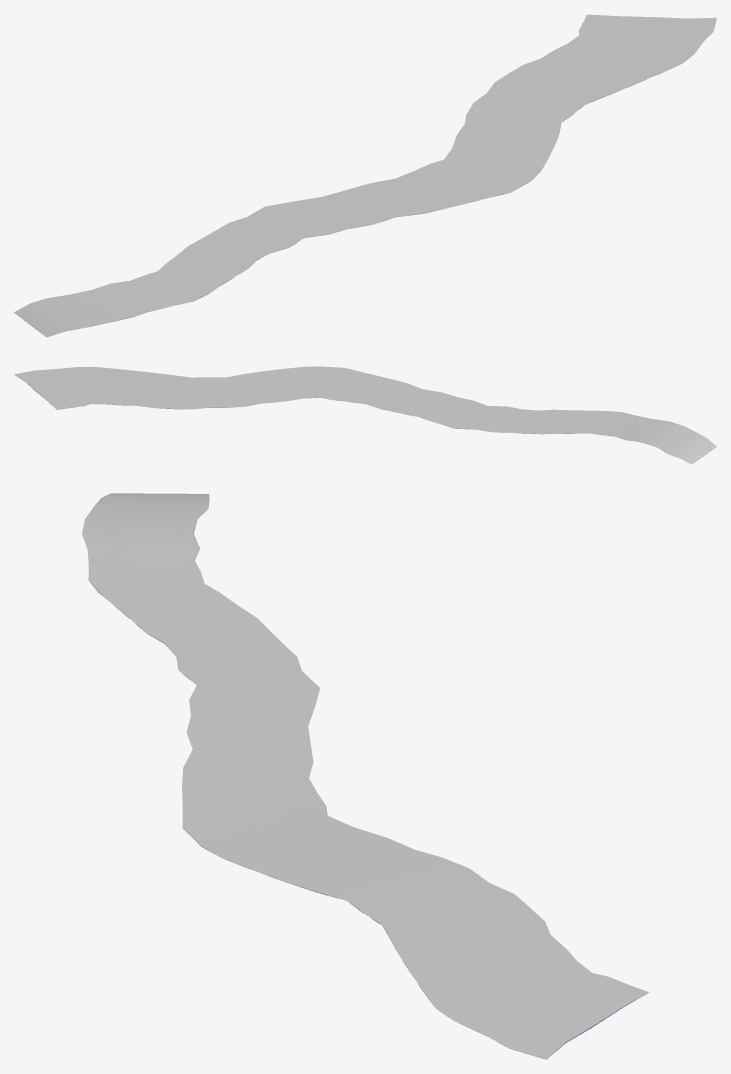
The model's file is EKH_THRONE_PS_TH_WATER37364.obj.
3 views of the same model, one above another, from view 1: azimuth 30°, elevation 25°; view 2: azimuth 150°, elevation 25°; view 3: azimuth 270°, elevation 25° (orthographic). The views are drawn at different scales.
Parts seen in each view (by area): view 1: TH_Water37364; view 2: TH_Water37364; view 3: TH_Water37364.
Boxes of the visible parts, bbox=[...] form: TH_Water37364: bbox=[14, 14, 716, 337]; TH_Water37364: bbox=[14, 366, 716, 464]; TH_Water37364: bbox=[82, 493, 648, 1059].
Bounding box in the file's own units: 4679 × 55.67 × 1934.
